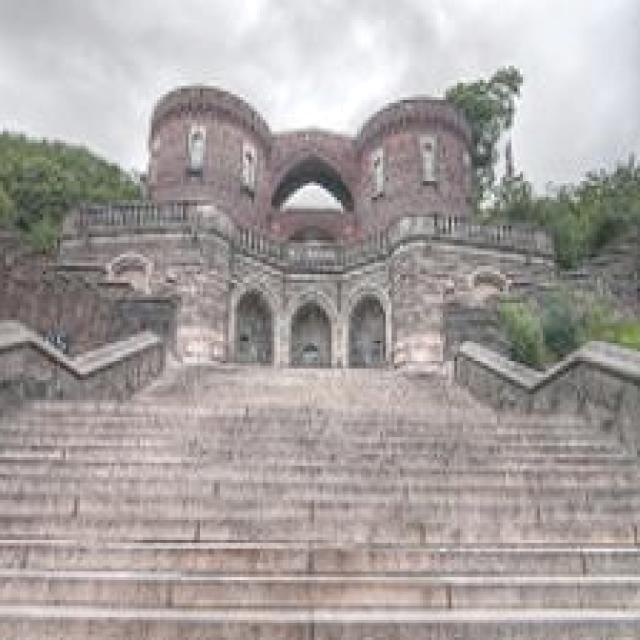upstair: (24, 387, 632, 635)
